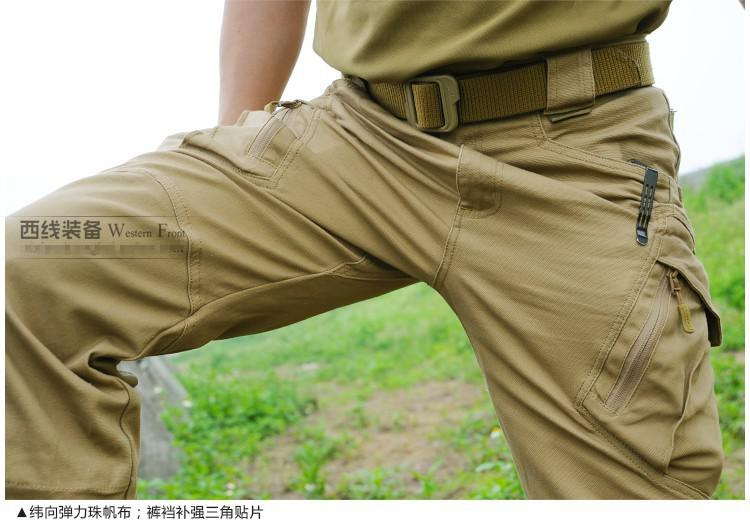pants: (9, 68, 723, 498)
